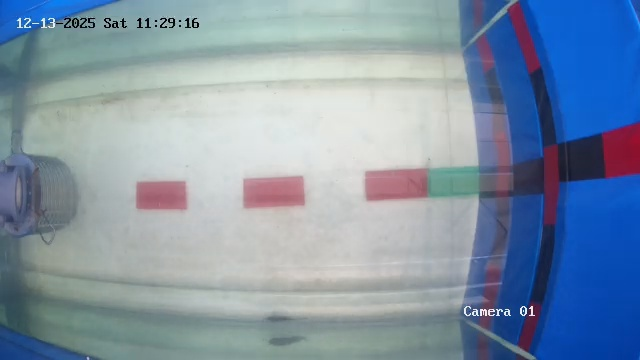fish: (264, 308, 312, 331)
